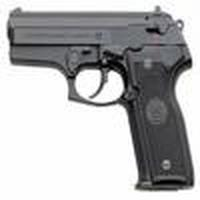gun: (4, 8, 196, 192)
